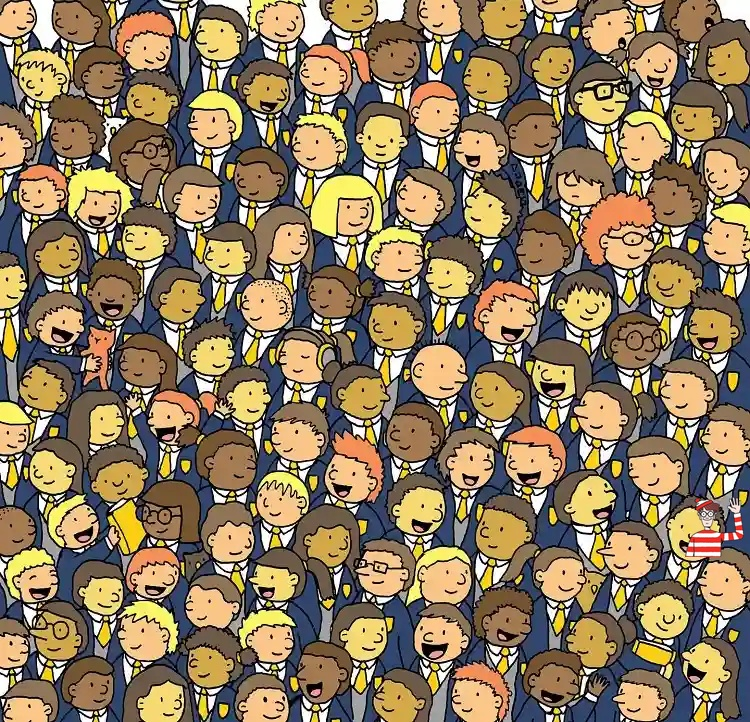waldo: (685, 497, 744, 557)
